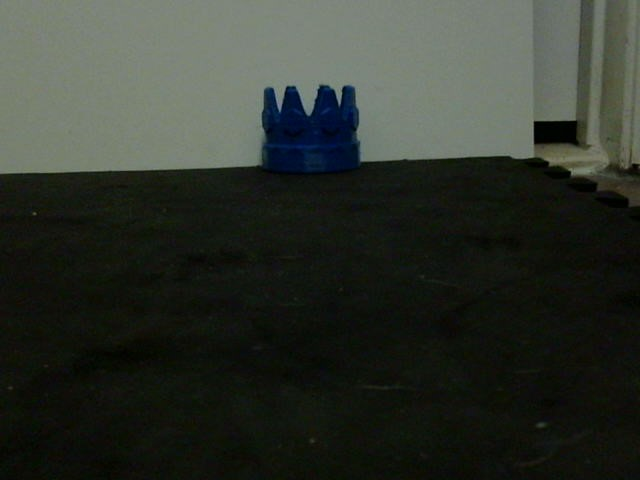crown: (259, 83, 363, 175)
